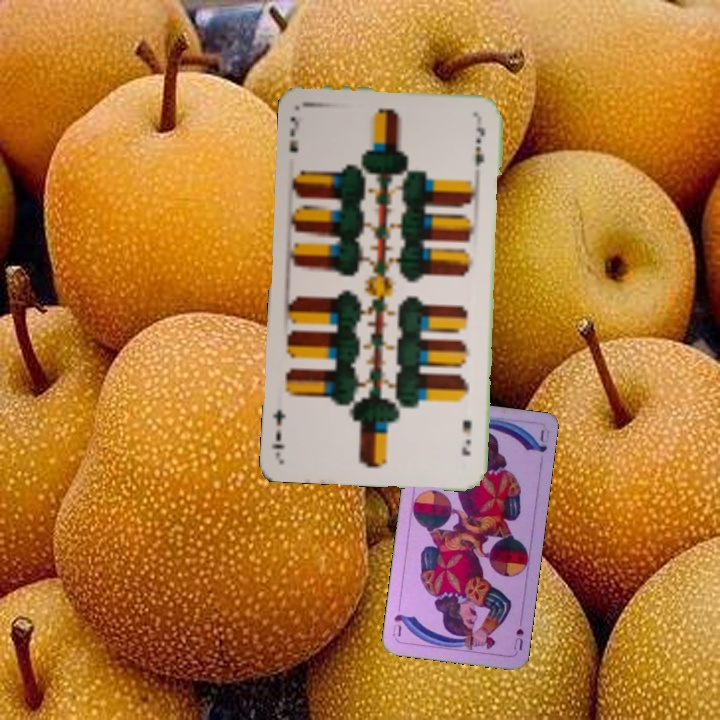E7: (285, 112, 302, 155), (458, 415, 474, 458)
SU: (509, 614, 526, 653)
